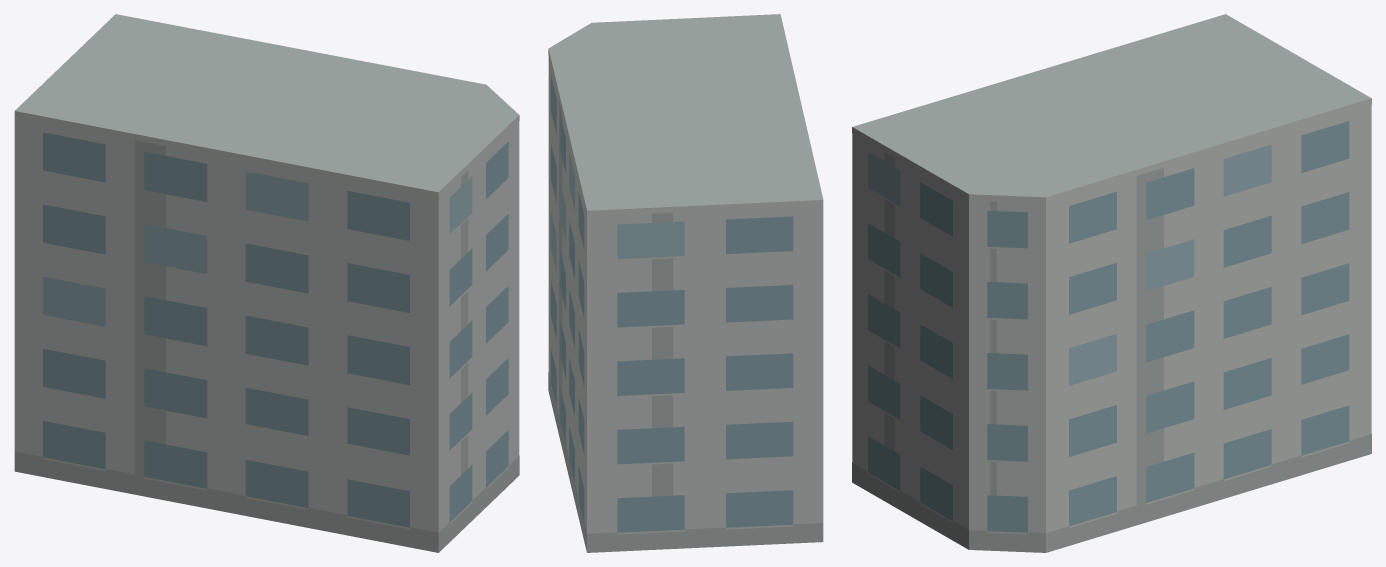
The model's file is survey-upis-32823532.glb.
3 renders of one model, left to right at view 1: azimuth 30°, elevation 25°; view 2: azimuth 150°, elevation 25°; view 3: azimuth 270°, elevation 25°, orthographic. The views are drawn at different scales.
Visible parts, largest first — view 1: survey-upis-32823532.tmp; view 2: survey-upis-32823532.tmp; view 3: survey-upis-32823532.tmp.
Part boxes in pixels (x1,y1,x2,y2): survey-upis-32823532.tmp: (14, 14, 519, 552); survey-upis-32823532.tmp: (548, 14, 823, 552); survey-upis-32823532.tmp: (852, 14, 1371, 552).
Size of the model in its own units: 15.37 by 13.9 by 18.42.
